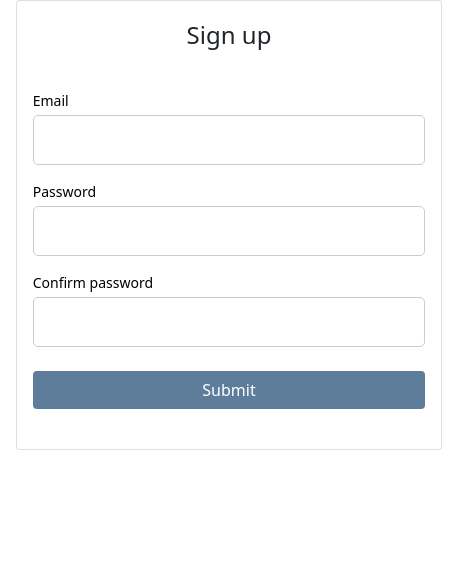
Scenario: SignupContainer › should show invalid password msg if password does not have a special character
Expected: the number of forms is 1, [33,74,425,433]
Type "Qwerty1" into the 1st password field at point(229, 231), box [33,206,425,256]
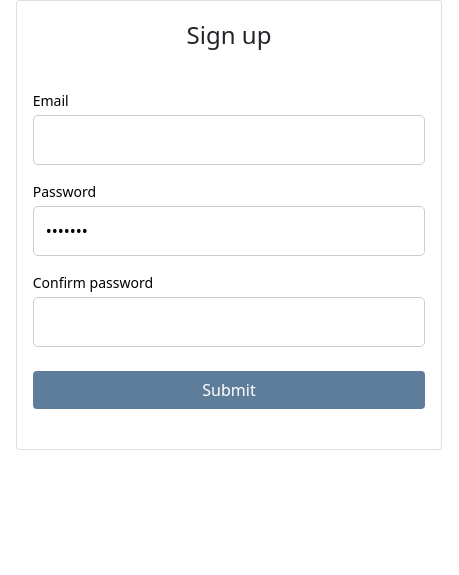
Submit the form, box [33,74,425,433]
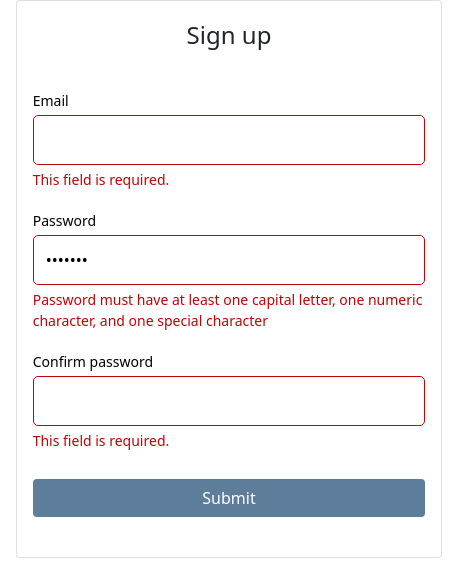
Expected: the text "Password must have at least one capital letter, one numeric character, and one special character" is shown, [33,290,422,330]
